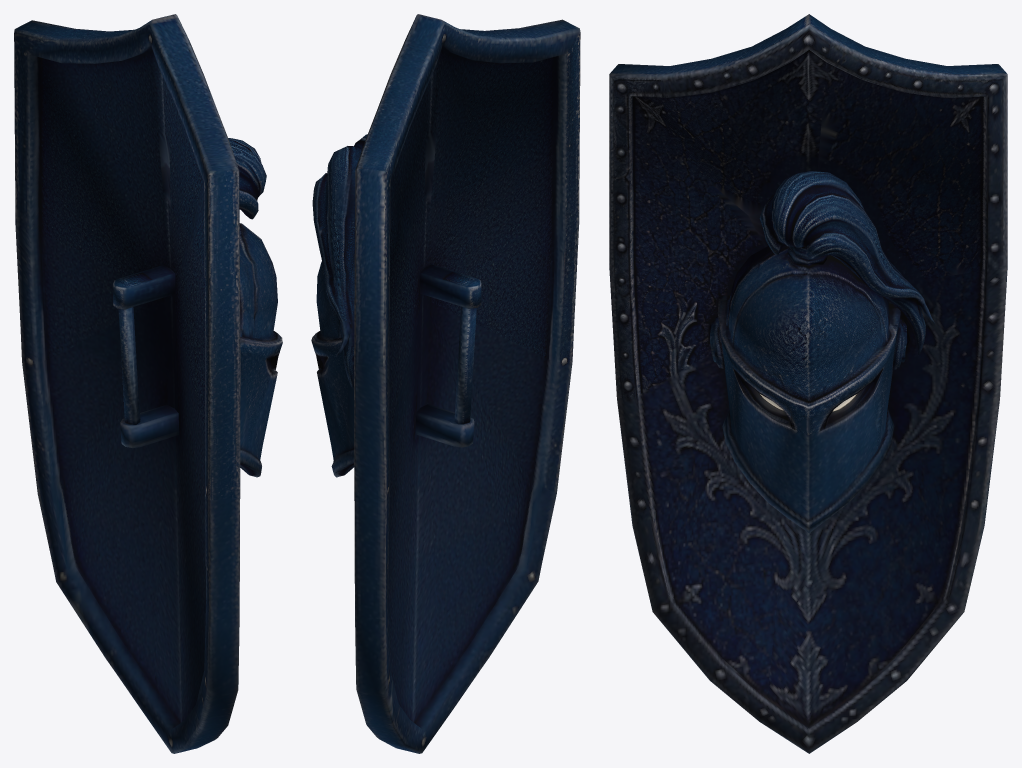
File: tripo_convert_7a5902b2-252c-47d3-a316-b122aca292f9.fbx
3 renders of one model, left to right at view 1: azimuth 30°, elevation 25°; view 2: azimuth 150°, elevation 25°; view 3: azimuth 270°, elevation 25°, orthographic. The views are drawn at different scales.
Parts seen in each view (by area): view 1: tripo_node_7a5902b2; view 2: tripo_node_7a5902b2; view 3: tripo_node_7a5902b2.
Boxes of the visible parts, left/top/right/bottom form: tripo_node_7a5902b2: left=14, top=14, right=282, bottom=753; tripo_node_7a5902b2: left=311, top=14, right=580, bottom=753; tripo_node_7a5902b2: left=609, top=14, right=1007, bottom=753.
Size of the model in its own units: 0.2363 by 0.998 by 0.502.
Materials: 1 (1 with a texture image).
